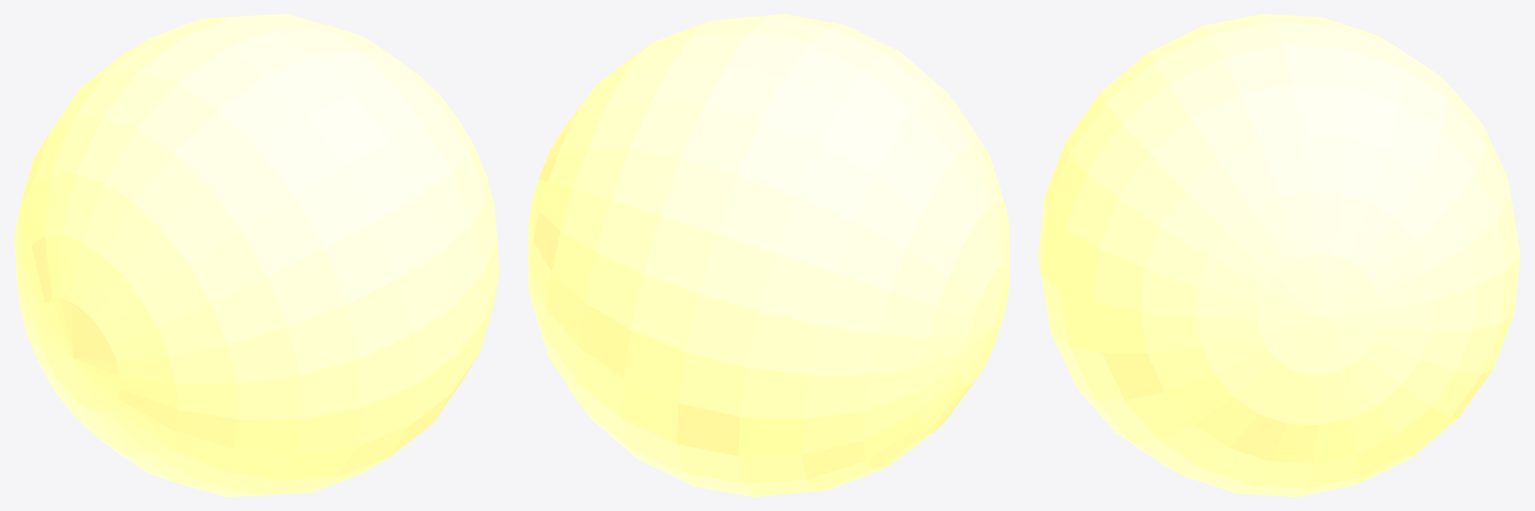
The model's file is sun.fbx.
3 views of the same model, side by side, from view 1: azimuth 30°, elevation 25°; view 2: azimuth 150°, elevation 25°; view 3: azimuth 270°, elevation 25° (orthographic).
Visible parts, largest first — view 1: Sphere_1; view 2: Sphere_1; view 3: Sphere_1.
Boxes of the visible parts, left/top/right/bottom form: Sphere_1: left=14, top=14, right=499, bottom=496; Sphere_1: left=528, top=14, right=1009, bottom=496; Sphere_1: left=1038, top=14, right=1520, bottom=496.
Size of the model in its own units: 280 by 279 by 279.
